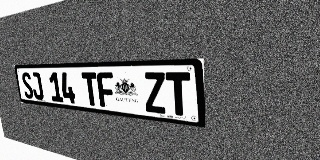1: (48, 72, 63, 102)
4: (59, 72, 76, 104)
F: (96, 72, 116, 108)
J: (30, 72, 44, 100)
S: (21, 72, 34, 99)
T: (165, 72, 192, 117), (81, 72, 100, 107)
Z: (143, 72, 167, 114)
